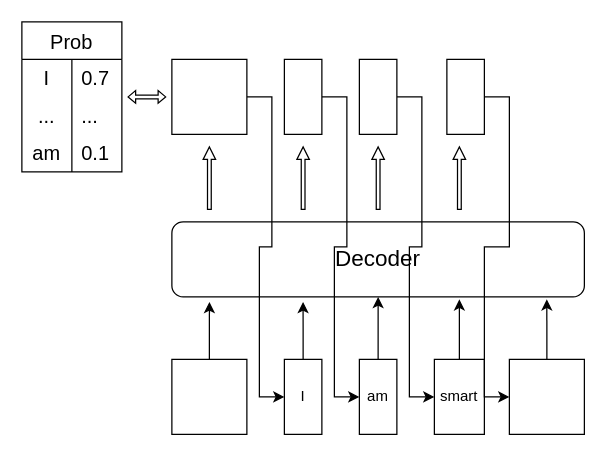
Image size: 606x456. Some labels were removed from this diagram. The shapes that lost their labels are listed below. From the top down, each one's centre as x and y in pixels, then its label:
the point at 209,396: [CLS]
the point at 546,396: [END]
